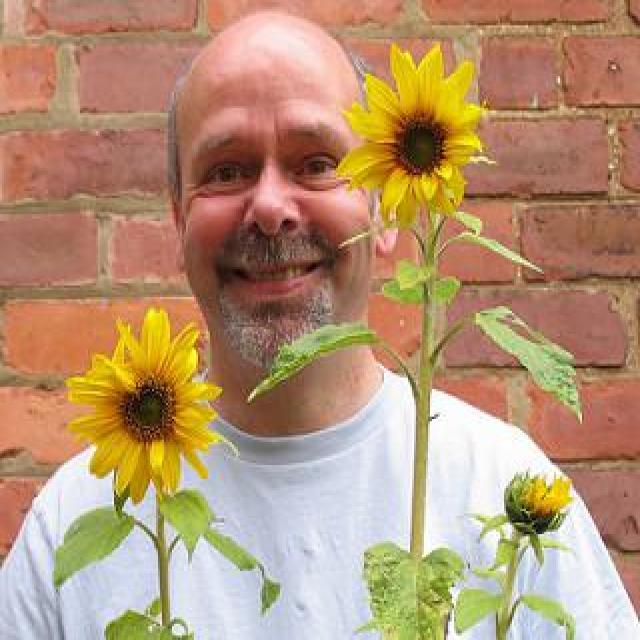sunflower: (67, 309, 222, 502), (337, 40, 485, 227), (520, 474, 571, 519)
